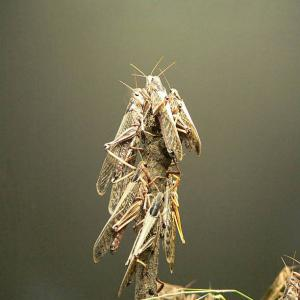locust: (101, 78, 153, 188), (120, 184, 172, 293)
